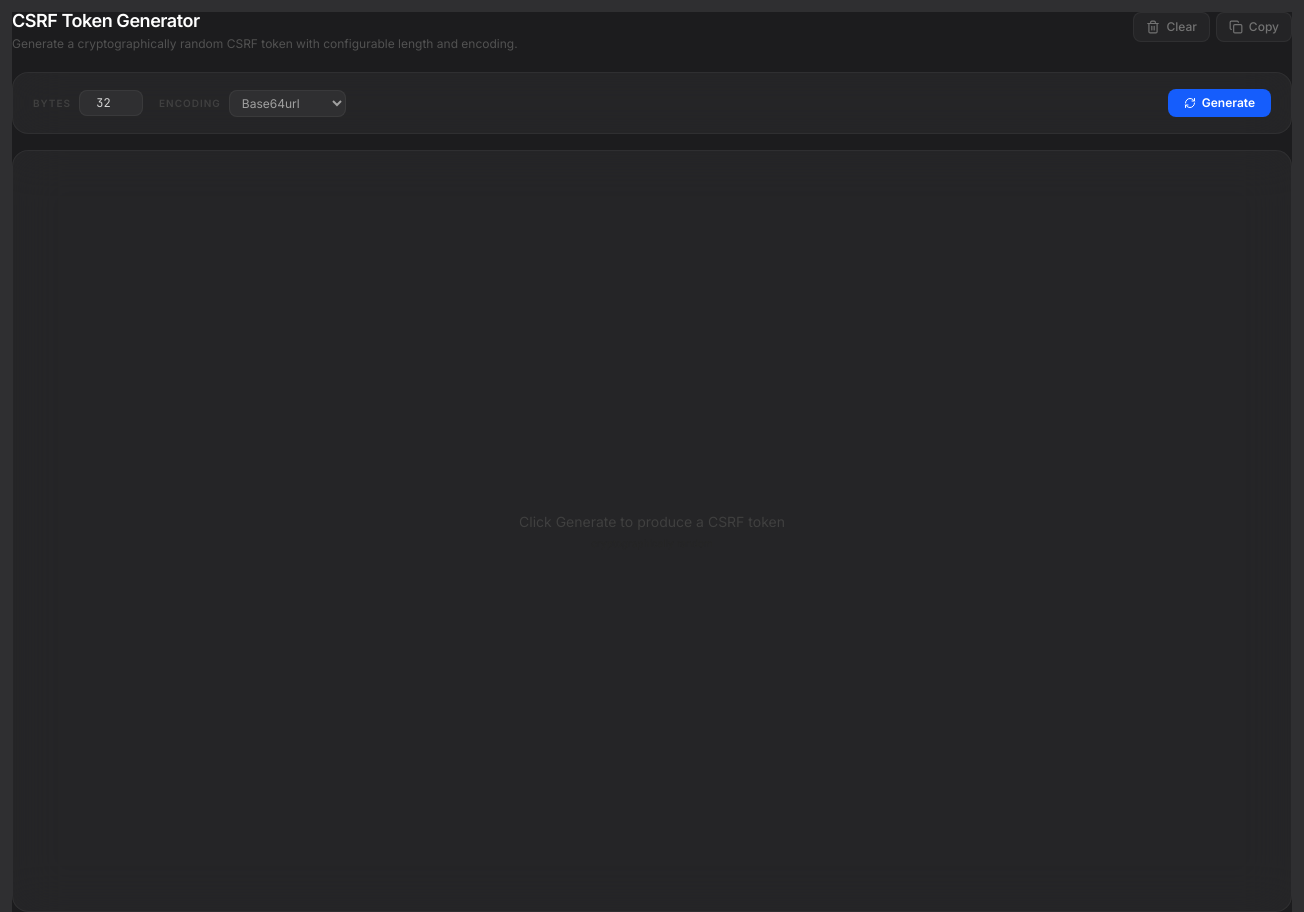
Test: CsrfTokenGenerator › shows example usage snippets
Click the button "Generate" at {"x": 1219, "y": 103}, box [1168,89,1271,117]
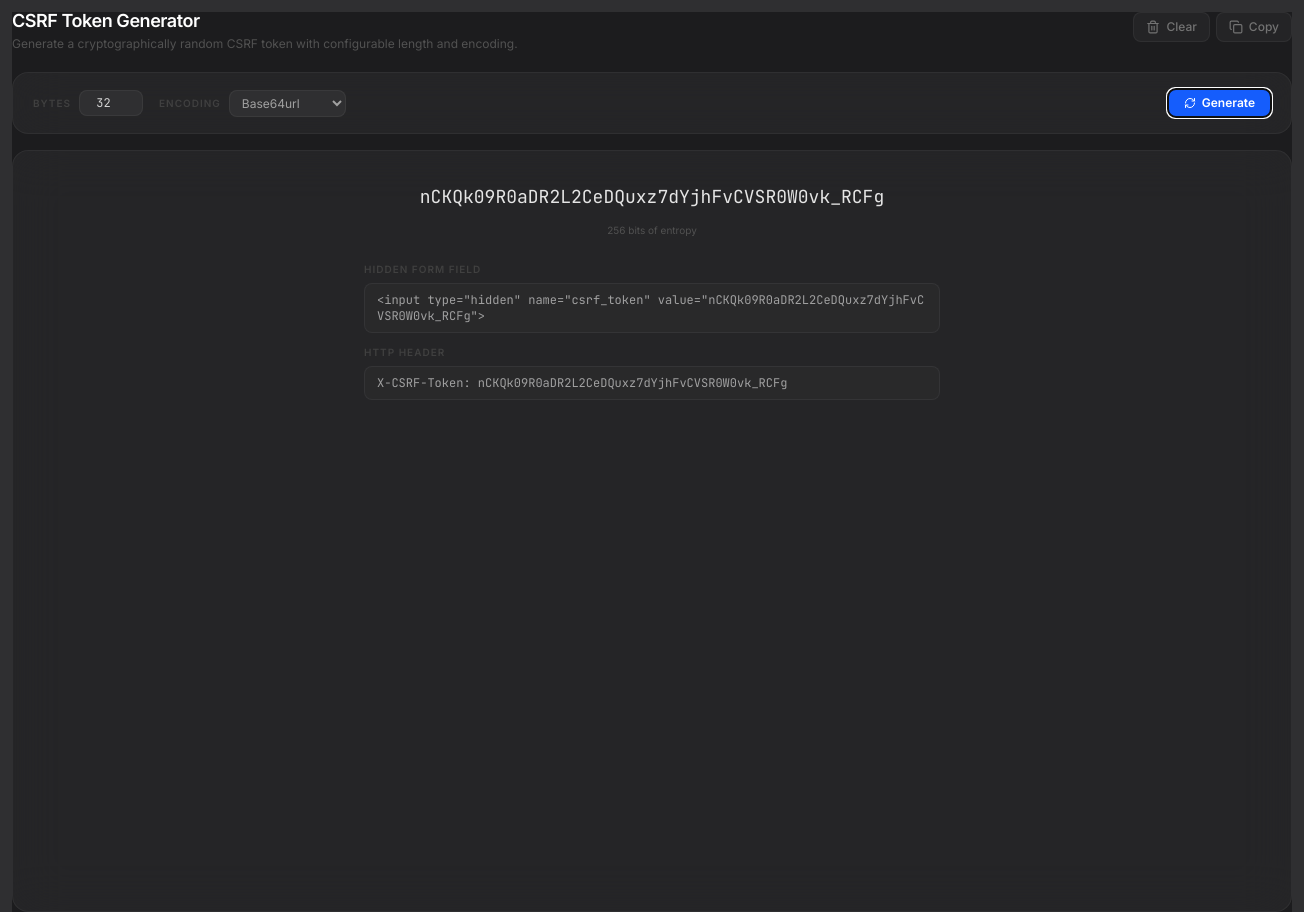
Result: the text "<input type=\"hidden\"" is shown at [377,292,924,324]
Result: the text "X-CSRF-Token:" is shown at [377,375,787,391]
